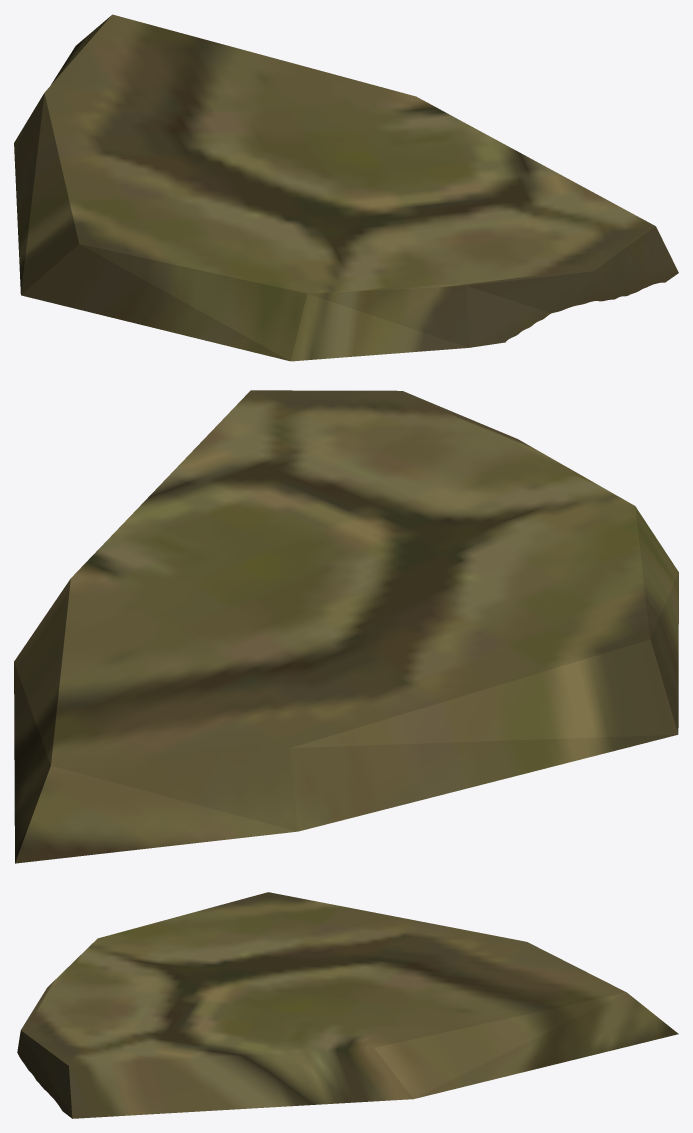
Rendered from paver_08.fbx.
3 renders of one model, top to bottom at view 1: azimuth 30°, elevation 25°; view 2: azimuth 150°, elevation 25°; view 3: azimuth 270°, elevation 25°, orthographic. The views are drawn at different scales.
Visible parts, largest first — view 1: obj0.185; view 2: obj0.185; view 3: obj0.185.
Part boxes in pixels (left/top/right/bottom): obj0.185: left=14, top=14, right=678, bottom=361; obj0.185: left=14, top=390, right=678, bottom=863; obj0.185: left=17, top=892, right=678, bottom=1118.
Bounding box in the file's own units: 1.01 × 0.1016 × 1.42.
